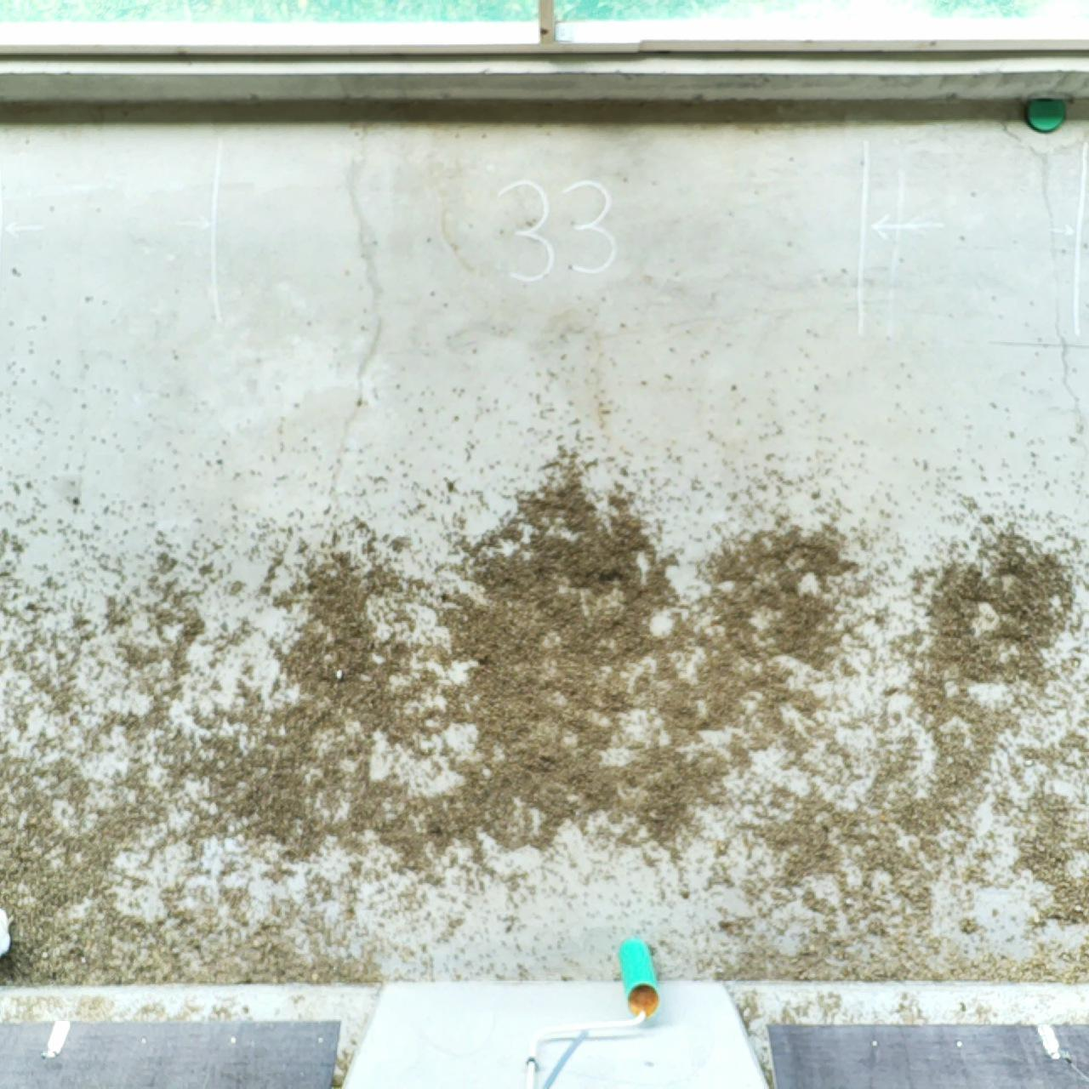chicken: (0, 907, 17, 958)
